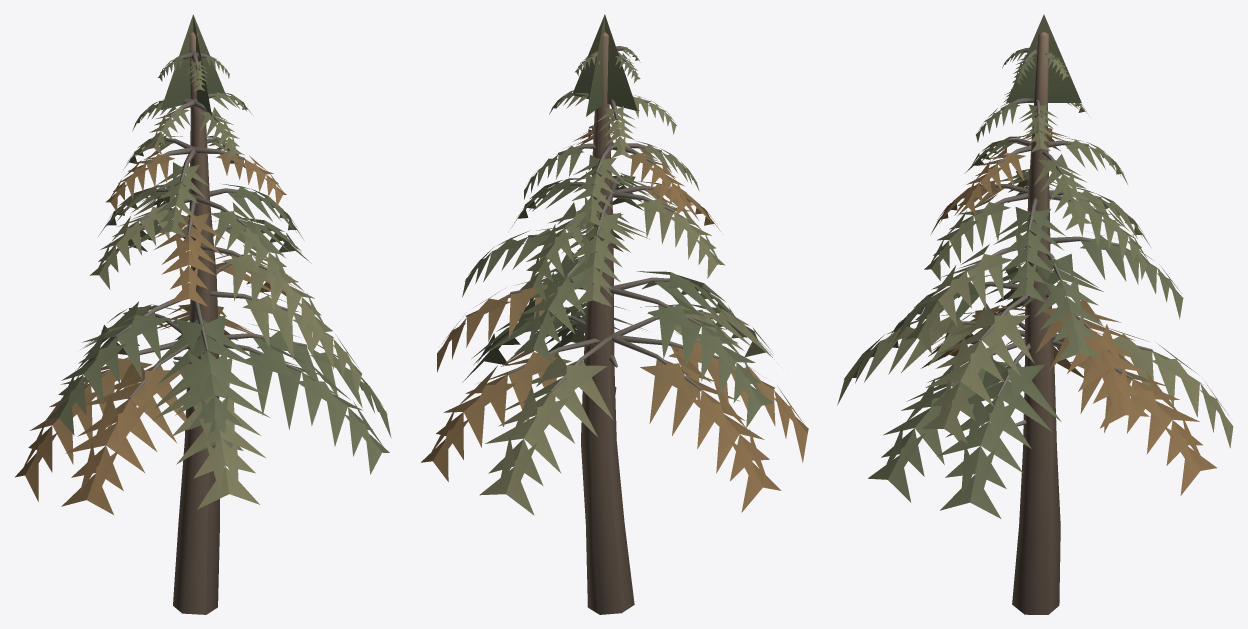
Rendered from pine_dry_b.glb.
3 renders of one model, left to right at view 1: azimuth 30°, elevation 25°; view 2: azimuth 150°, elevation 25°; view 3: azimuth 270°, elevation 25°, orthographic.
Parts seen in each view (by area): view 1: pine_dry_b; view 2: pine_dry_b; view 3: pine_dry_b.
Part boxes in pixels (box(x1,y1,x2,y2)): pine_dry_b: box(15, 14, 391, 614); pine_dry_b: box(421, 14, 808, 614); pine_dry_b: box(837, 14, 1233, 614).
Bounding box in the file's own units: 5.14 × 8.81 × 5.33.
